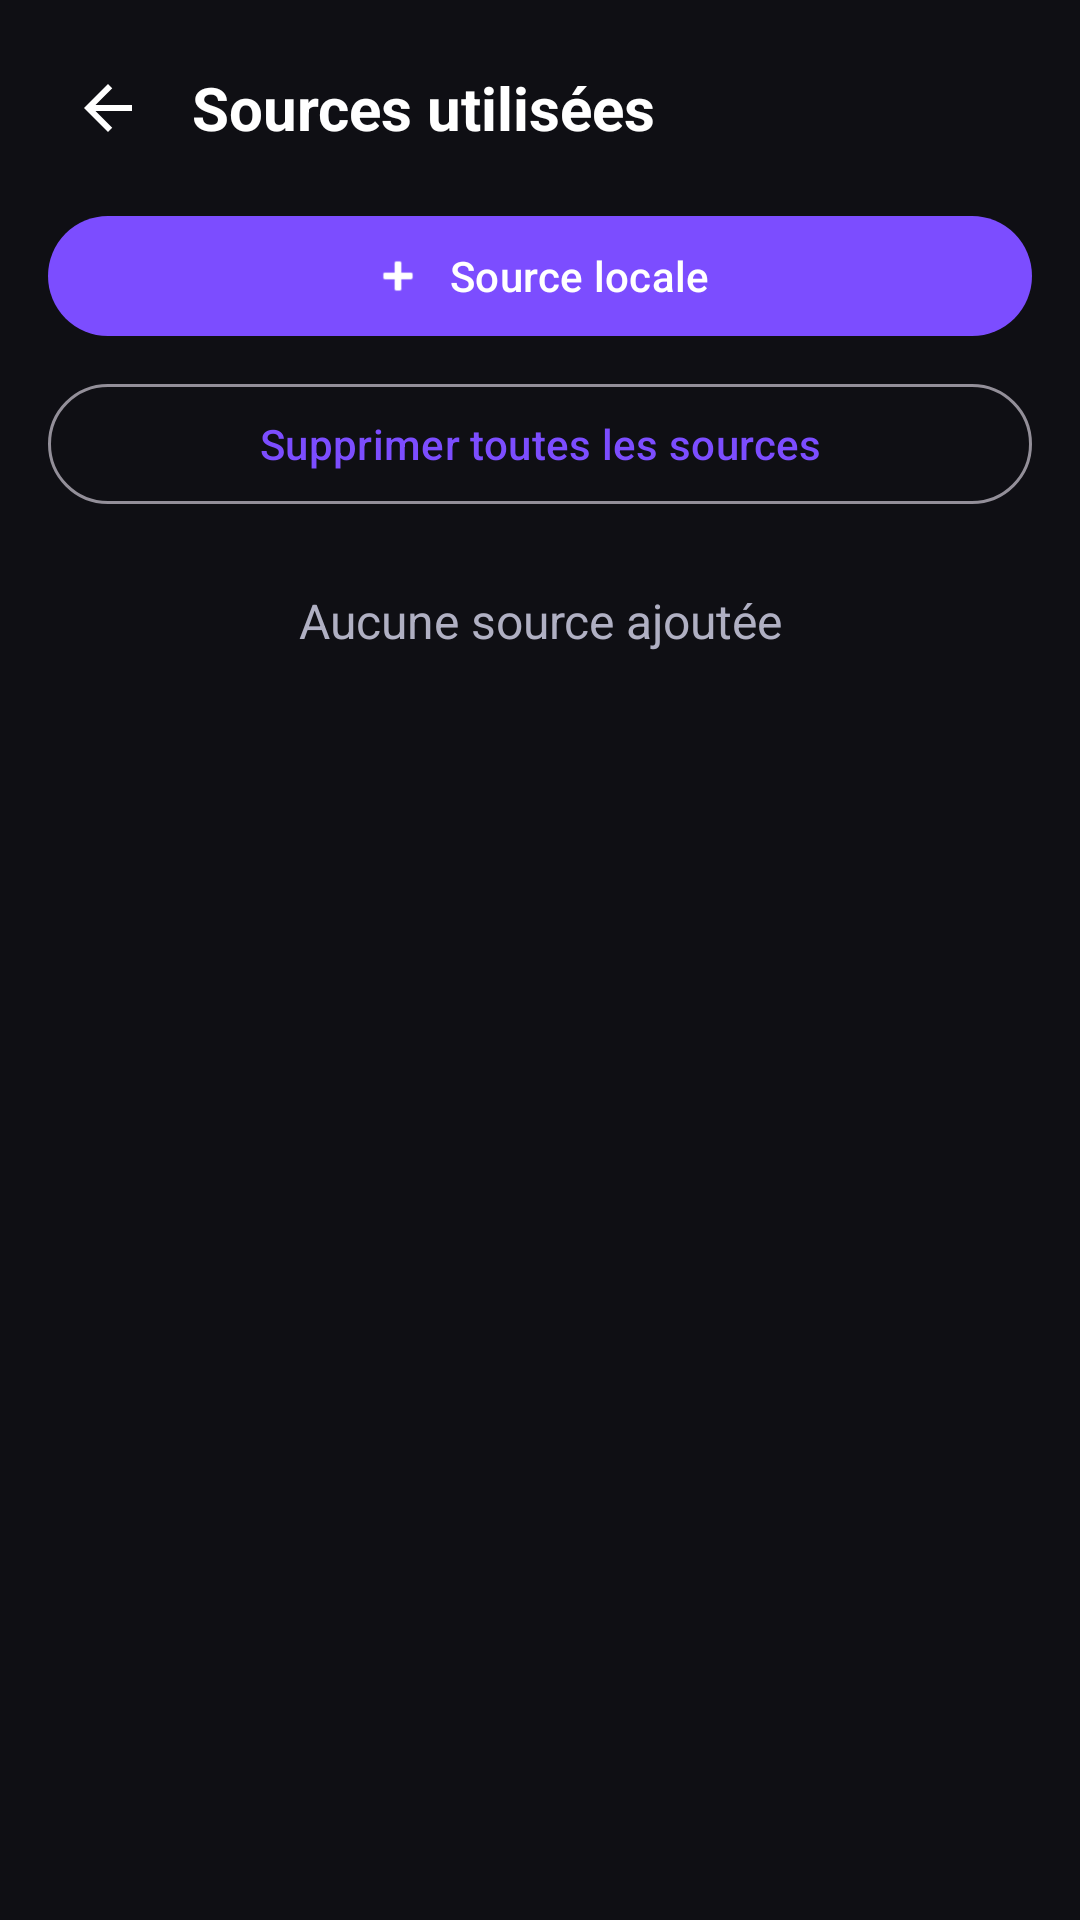

Screen size 1080 × 1920. Icon name, then its box in pixels as detection(x1, y1, x2, y2):
Retour: detection(84, 84, 132, 132)
